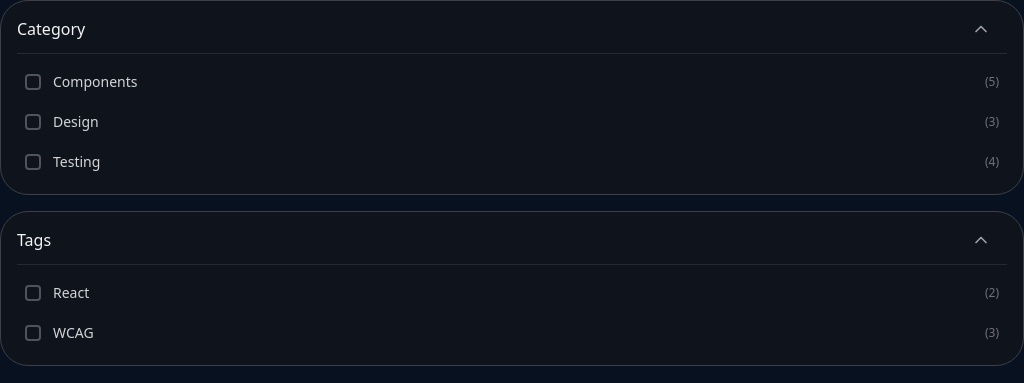
Test: FilterSidebar › groups remain collapsible independently
Click the button "Category" at [51, 29], box [9,13,999,45]
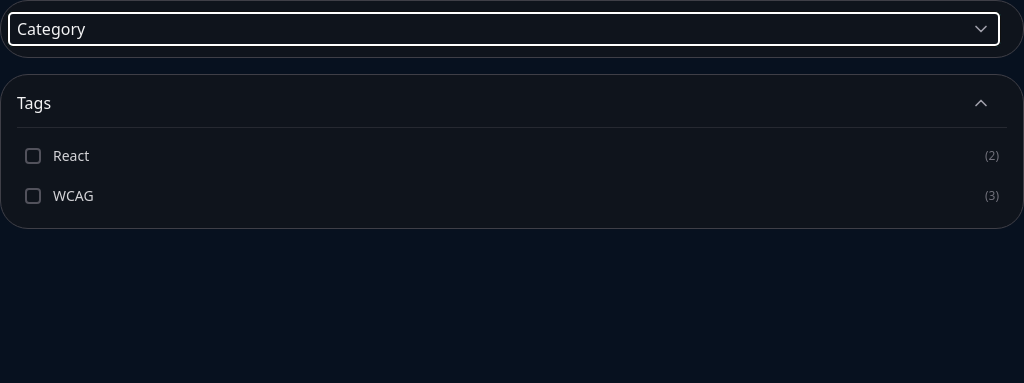
Result: the button "Category" is collapsed at [9,13,999,45]
